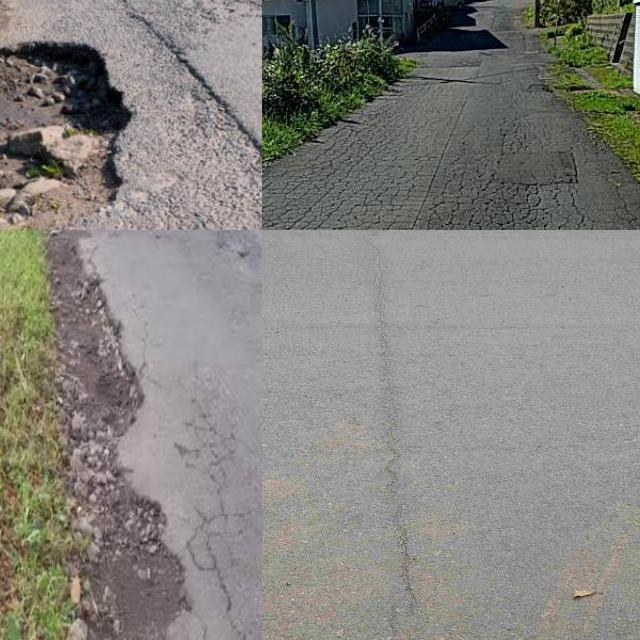Memanjang: (357, 230, 461, 640)
Pinggir: (49, 295, 206, 640), (0, 2, 155, 230)
Retak Buaya: (262, 115, 436, 230)
